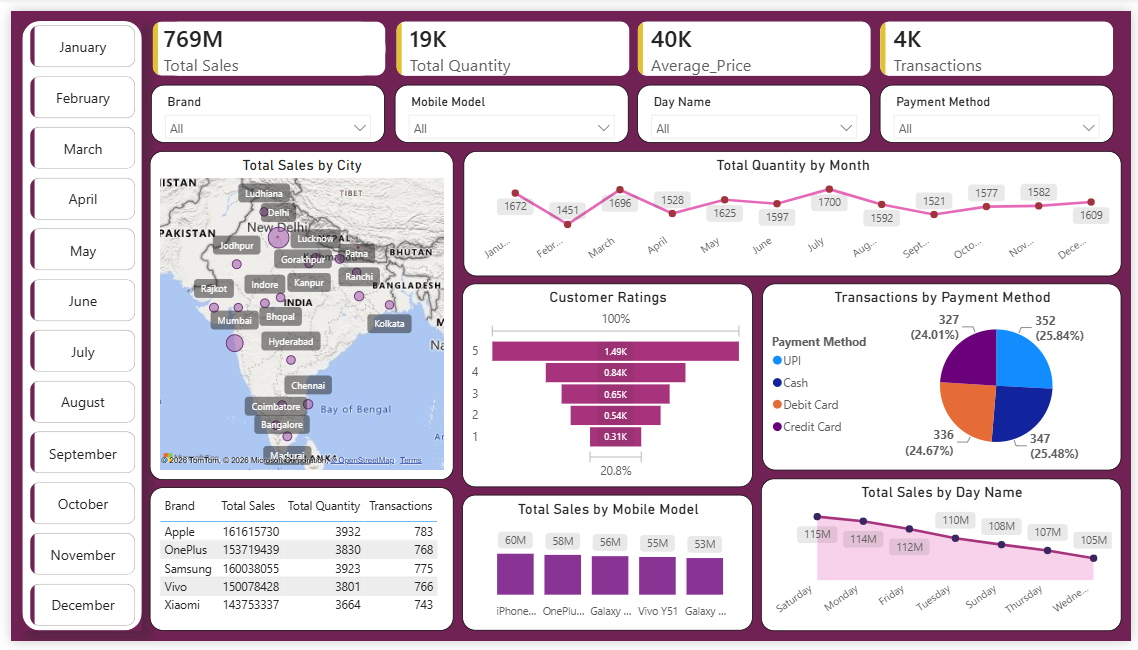

The page's visual inventory and layout, read from the dashboard file:
{"tool":"powerbi","page":{"name":"Page 1","canvas":[1280,720],"ordinal":0},"visuals":[{"type":"shape","box":[13.3,11.7,136.7,696.7],"z":0},{"type":"advancedSlicerVisual","fields":{"Values":["Sheet1.Date.Variation.Date Hierarchy.Month"]},"box":[17.8,11.1,130,696.7],"z":1000},{"type":"map","fields":{"Category":["Mobile Sales data.City"],"Size":["Mobile Sales data.Total Sales"]},"box":[159,160,347,376],"z":2000},{"type":"cardVisual","fields":{"Data":["Mobile Sales data.Total Sales"]},"box":[157.7,6.8,276.4,72.3],"z":3000},{"type":"lineChart","fields":{"Y":["Mobile Sales data.Total Quantity"],"Category":["Mobile Sales data.Date.Variation.Date Hierarchy.Month","Mobile Sales data.Date.Variation.Date Hierarchy.Day"]},"box":[517,160,752,143],"z":4000},{"type":"clusteredColumnChart","fields":{"Category":["Mobile Sales data.Mobile Model"],"Y":["Mobile Sales data.Total Sales"]},"box":[515,553,332,155],"z":5000},{"type":"pieChart","fields":{"Category":["Mobile Sales data.Payment Method"],"Y":["Mobile Sales data.Transactions"]},"box":[858,311,410.5,214],"z":6000},{"type":"funnel","title":"Customer Ratings","fields":{"Category":["Mobile Sales data.Customer Ratings"],"Y":["CountNonNull(Mobile Sales data.Customer Ratings)"]},"box":[516,311,332,233],"z":7000},{"type":"areaChart","fields":{"Category":["Mobile Sales data.Day Name"],"Y":["Mobile Sales data.Total Sales"]},"box":[857,534,412,174],"z":8000},{"type":"tableEx","fields":{"Values":["Mobile Sales data.Brand","Mobile Sales data.Total Sales","Mobile Sales data.Total Quantity","Mobile Sales data.Transactions"]},"box":[158.6,544.3,347.1,164.3],"z":9000},{"type":"cardVisual","fields":{"Data":["Mobile Sales data.Total Quantity"]},"box":[435,6.7,276.4,72.3],"z":10000},{"type":"cardVisual","fields":{"Data":["Mobile Sales data.Average"]},"box":[711.7,6.7,276.4,72.3],"z":11000},{"type":"cardVisual","fields":{"Data":["Mobile Sales data.Transactions"]},"box":[988.3,6.7,276.4,72.3],"z":12000},{"type":"slicer","fields":{"Values":["Mobile Sales data.Brand"]},"box":[160,84,267,66],"z":13000},{"type":"slicer","fields":{"Values":["Mobile Sales data.Mobile Model"]},"box":[439,84,267,66],"z":14000},{"type":"slicer","fields":{"Values":["Mobile Sales data.Day Name"]},"box":[716,84,267,66],"z":15000},{"type":"slicer","fields":{"Values":["Mobile Sales data.Payment Method"]},"box":[993,84,267,66],"z":16000}]}

Visuals, with their boxes in screenshot pixels (x1, y1, x2, y2), scaled from the page's 1280x720 canvas onto the 1138x650 screenshot:
shape: 12,11,133,640
advancedSlicerVisual - Sheet1.Date.Variation.Date Hierarchy.Month: 16,10,131,639
map - Mobile Sales data.City x Mobile Sales data.Total Sales: 141,144,450,484
cardVisual - Mobile Sales data.Total Sales: 140,6,386,71
lineChart - Mobile Sales data.Total Quantity x Mobile Sales data.Date.Variation.Date Hierarchy.Month: 460,144,1128,274
clusteredColumnChart - Mobile Sales data.Mobile Model x Mobile Sales data.Total Sales: 458,499,753,639
pieChart - Mobile Sales data.Payment Method x Mobile Sales data.Transactions: 763,281,1128,474
"Customer Ratings" funnel: 459,281,754,491
areaChart - Mobile Sales data.Day Name x Mobile Sales data.Total Sales: 762,482,1128,639
tableEx - Mobile Sales data.Brand x Mobile Sales data.Total Sales: 141,491,450,640
cardVisual - Mobile Sales data.Total Quantity: 387,6,632,71
cardVisual - Mobile Sales data.Average: 633,6,878,71
cardVisual - Mobile Sales data.Transactions: 879,6,1124,71
slicer - Mobile Sales data.Brand: 142,76,380,135
slicer - Mobile Sales data.Mobile Model: 390,76,628,135
slicer - Mobile Sales data.Day Name: 637,76,874,135
slicer - Mobile Sales data.Payment Method: 883,76,1120,135
